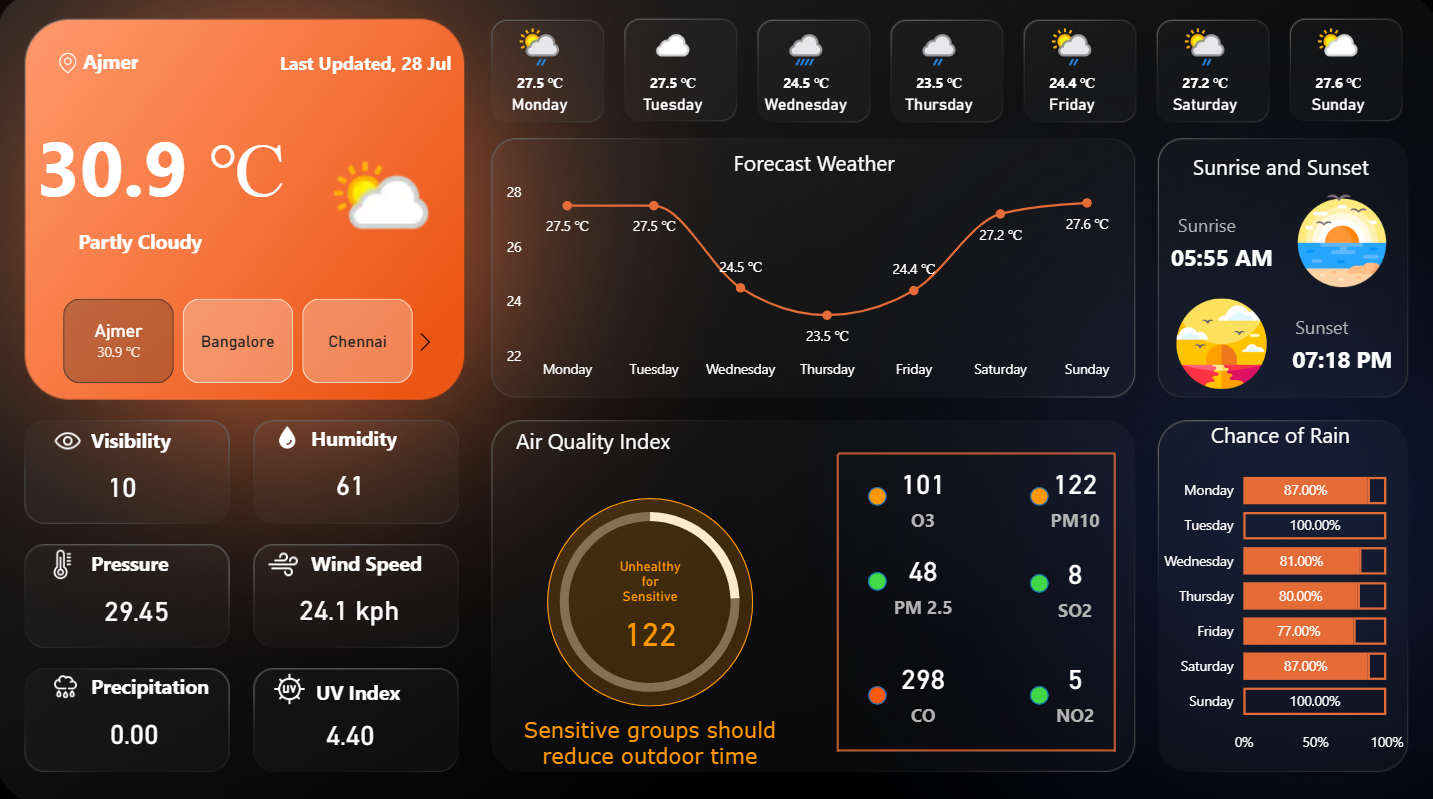

This screenshot's page, from the dashboard's own definition file:
{"tool":"powerbi","page":{"name":"Page 1","canvas":[1280,720],"ordinal":0},"visuals":[{"type":"donutChart","fields":{"Y":["Sum(current.current.air_quality.pm10)","_measure.left_value_pm10"]},"box":[403.3,435.8,350.5,209.3],"z":0},{"type":"advancedSlicerVisual","fields":{"Values":["Location.location.name"]},"box":[33.3,266.1,361.8,85.7],"z":1000},{"type":"shape","box":[30.1,92.2,230.5,120.6],"z":2000},{"type":"shape","box":[38.6,205.2,175.7,28.4],"z":3000},{"type":"shape","box":[76.6,37.3,92.7,44.3],"z":4000},{"type":"shape","box":[249.9,44.7,153.4,34.5],"z":5000},{"type":"image","box":[48.8,45.7,28.4,31.5],"z":6000},{"type":"cardVisual","fields":{"Data":["Min(current.current.condition.icon)"]},"box":[270.2,118.9,126,129],"z":7000},{"type":"image","box":[37.3,379,50.4,37.3],"z":8000},{"type":"shape","box":[83.7,379,93.7,35.3],"z":9000},{"type":"shape","box":[83.5,597.1,107,35.3],"z":10000},{"type":"shape","box":[83.7,487.8,84.7,35.3],"z":11000},{"type":"shape","box":[283.2,601.7,76.6,35.3],"z":12000},{"type":"shape","box":[278.6,487.8,108.1,35.3],"z":13000},{"type":"shape","box":[278.2,376.9,93.7,35.3],"z":14000},{"type":"image","box":[235.8,379,42.3,31.2],"z":15000},{"type":"image","box":[235.8,597.7,47.4,39.3],"z":16000},{"type":"image","box":[229.3,487.9,47.8,38],"z":17000},{"type":"image","box":[40.3,487.8,36.3,38.3],"z":18000},{"type":"image","box":[37.3,597.7,46.4,35.3],"z":19000},{"type":"card","fields":{"Values":["Sum(current.current.humidity)"]},"box":[278.6,410.2,69.3,50.5],"z":20000},{"type":"card","fields":{"Values":["Sum(current.current.precip_mm)"]},"box":[86.9,631.3,69.5,51.1],"z":21000},{"type":"card","fields":{"Values":["Sum(current.current.uv)"]},"box":[278.2,632.4,69.5,50],"z":22000},{"type":"card","fields":{"Values":["Sum(current.current.pressure_in)"]},"box":[77.1,522.6,93.4,50],"z":23000},{"type":"card","fields":{"Values":["_measure.wind_speed"]},"box":[256.4,521.6,111.9,51.1],"z":24000},{"type":"card","fields":{"Values":["Sum(current.current.vis_km)"]},"box":[76.4,412.6,69.3,50.5],"z":25000},{"type":"advancedSlicerVisual","fields":{"Values":["forecast_day.Day_name"]},"box":[421.6,19.6,830.2,105.4],"z":26000},{"type":"lineChart","title":"Forecast Weather","fields":{"Y":["Sum(forecast_day.forecast.forecastday.day.avgtemp_c)"],"Category":["forecast_day.Day_name"]},"box":[446.5,137.1,555.3,214.7],"z":27000},{"type":"shape","box":[1060.5,136.4,172,35.6],"z":28000},{"type":"shape","box":[1024.1,212.8,123.3,41.7],"z":29000},{"type":"shape","box":[1134.1,302.4,117,43.4],"z":30000},{"type":"shape","box":[1011.7,183.5,122.4,42.6],"z":31000},{"type":"shape","box":[1116.4,274,117,43.4],"z":32000},{"type":"image","box":[1114.6,173.8,156.1,92.2],"z":33000},{"type":"image","box":[1010.8,266,150.7,89.6],"z":34000},{"type":"hundredPercentStackedBarChart","title":"Chance of Rain","fields":{"Y":["Sum(forecast_day.forecast.forecastday.day.daily_chance_of_rain)","current.left_value_rain"],"Category":["forecast_day.Day_name"]},"box":[1023.8,378.4,227.8,303.7],"z":35000},{"type":"shape","box":[460.2,378.9,171.7,36.6],"z":36000},{"type":"card","fields":{"Values":["Sum(current.current.air_quality.pm10)"]},"box":[924.1,410.5,64.1,70],"z":37000},{"type":"card","fields":{"Values":["Sum(current.current.air_quality.o3)"]},"box":[788.9,410.5,64.1,70],"z":38000},{"type":"card","fields":{"Values":["Sum(current.current.air_quality.pm2_5)"]},"box":[788.9,487.6,64.1,70],"z":39000},{"type":"card","fields":{"Values":["Sum(current.current.air_quality.so2)"]},"box":[924.1,489.9,64.1,70],"z":40000},{"type":"card","fields":{"Values":["Sum(current.current.air_quality.co)"]},"box":[788.9,583.7,64.1,70],"z":41000},{"type":"card","fields":{"Values":["Sum(current.current.air_quality.no2)"]},"box":[924.1,583.7,64.1,70],"z":42000},{"type":"shape","box":[772.3,437.7,16.6,16.6],"z":43000},{"type":"shape","box":[772.3,614.5,16.6,16.6],"z":44000},{"type":"shape","box":[915.8,614.5,16.6,16.6],"z":45000},{"type":"shape","box":[915.8,514.8,16.6,16.6],"z":46000},{"type":"shape","box":[772.3,513.7,16.6,16.6],"z":47000},{"type":"shape","box":[915.8,437.7,16.6,16.6],"z":48000},{"type":"shape","box":[670.5,408.4,150.3,264.1],"z":49000},{"type":"shape","box":[745.7,623.7,245.8,96.5],"z":50000},{"type":"shape","box":[745.7,359.6,245.8,96.5],"z":51000},{"type":"shape","box":[916.3,408.4,150.3,264.1],"z":52000},{"type":"shape","box":[487.6,448,182.9,184.9],"z":53000},{"type":"card","fields":{"Values":["Sum(current.current.air_quality.pm10)"]},"box":[542.5,501.8,73.1,90.4],"z":54000},{"type":"shape","box":[447,637,264.1,55.9],"z":55000}]}

Visuals, with their boxes in screenshot pixels (x1, y1, x2, y2), scaled from the page's 1280x720 canvas onto the 1433x799 screenshot:
donutChart - Sum(current.current.air_quality.pm10) x _measure.left_value_pm10: box=[452, 484, 844, 716]
advancedSlicerVisual - Location.location.name: box=[37, 295, 442, 390]
shape: box=[34, 102, 292, 236]
shape: box=[43, 228, 240, 259]
shape: box=[86, 41, 190, 91]
shape: box=[280, 50, 452, 88]
image: box=[55, 51, 86, 86]
cardVisual - Min(current.current.condition.icon): box=[302, 132, 444, 275]
image: box=[42, 421, 98, 462]
shape: box=[94, 421, 199, 460]
shape: box=[93, 663, 213, 702]
shape: box=[94, 541, 189, 580]
shape: box=[317, 668, 403, 707]
shape: box=[312, 541, 433, 580]
shape: box=[311, 418, 416, 457]
image: box=[264, 421, 311, 455]
image: box=[264, 663, 317, 707]
image: box=[257, 541, 310, 584]
image: box=[45, 541, 86, 584]
image: box=[42, 663, 94, 702]
card - Sum(current.current.humidity): box=[312, 455, 389, 511]
card - Sum(current.current.precip_mm): box=[97, 701, 175, 757]
card - Sum(current.current.uv): box=[311, 702, 389, 757]
card - Sum(current.current.pressure_in): box=[86, 580, 191, 635]
card - _measure.wind_speed: box=[287, 579, 412, 636]
card - Sum(current.current.vis_km): box=[86, 458, 163, 514]
advancedSlicerVisual - forecast_day.Day_name: box=[472, 22, 1401, 139]
"Forecast Weather" lineChart: box=[500, 152, 1122, 390]
shape: box=[1187, 151, 1380, 191]
shape: box=[1147, 236, 1285, 282]
shape: box=[1270, 336, 1401, 384]
shape: box=[1133, 204, 1270, 251]
shape: box=[1250, 304, 1381, 352]
image: box=[1248, 193, 1423, 295]
image: box=[1132, 295, 1300, 395]
"Chance of Rain" hundredPercentStackedBarChart: box=[1146, 420, 1401, 757]
shape: box=[515, 420, 707, 461]
card - Sum(current.current.air_quality.pm10): box=[1035, 456, 1106, 533]
card - Sum(current.current.air_quality.o3): box=[883, 456, 955, 533]
card - Sum(current.current.air_quality.pm2_5): box=[883, 541, 955, 619]
card - Sum(current.current.air_quality.so2): box=[1035, 544, 1106, 621]
card - Sum(current.current.air_quality.co): box=[883, 648, 955, 725]
card - Sum(current.current.air_quality.no2): box=[1035, 648, 1106, 725]
shape: box=[865, 486, 883, 504]
shape: box=[865, 682, 883, 700]
shape: box=[1025, 682, 1044, 700]
shape: box=[1025, 571, 1044, 590]
shape: box=[865, 570, 883, 588]
shape: box=[1025, 486, 1044, 504]
shape: box=[751, 453, 919, 746]
shape: box=[835, 692, 1110, 798]
shape: box=[835, 399, 1110, 506]
shape: box=[1026, 453, 1194, 746]
shape: box=[546, 497, 751, 702]
card - Sum(current.current.air_quality.pm10): box=[607, 557, 689, 657]
shape: box=[500, 707, 796, 769]
